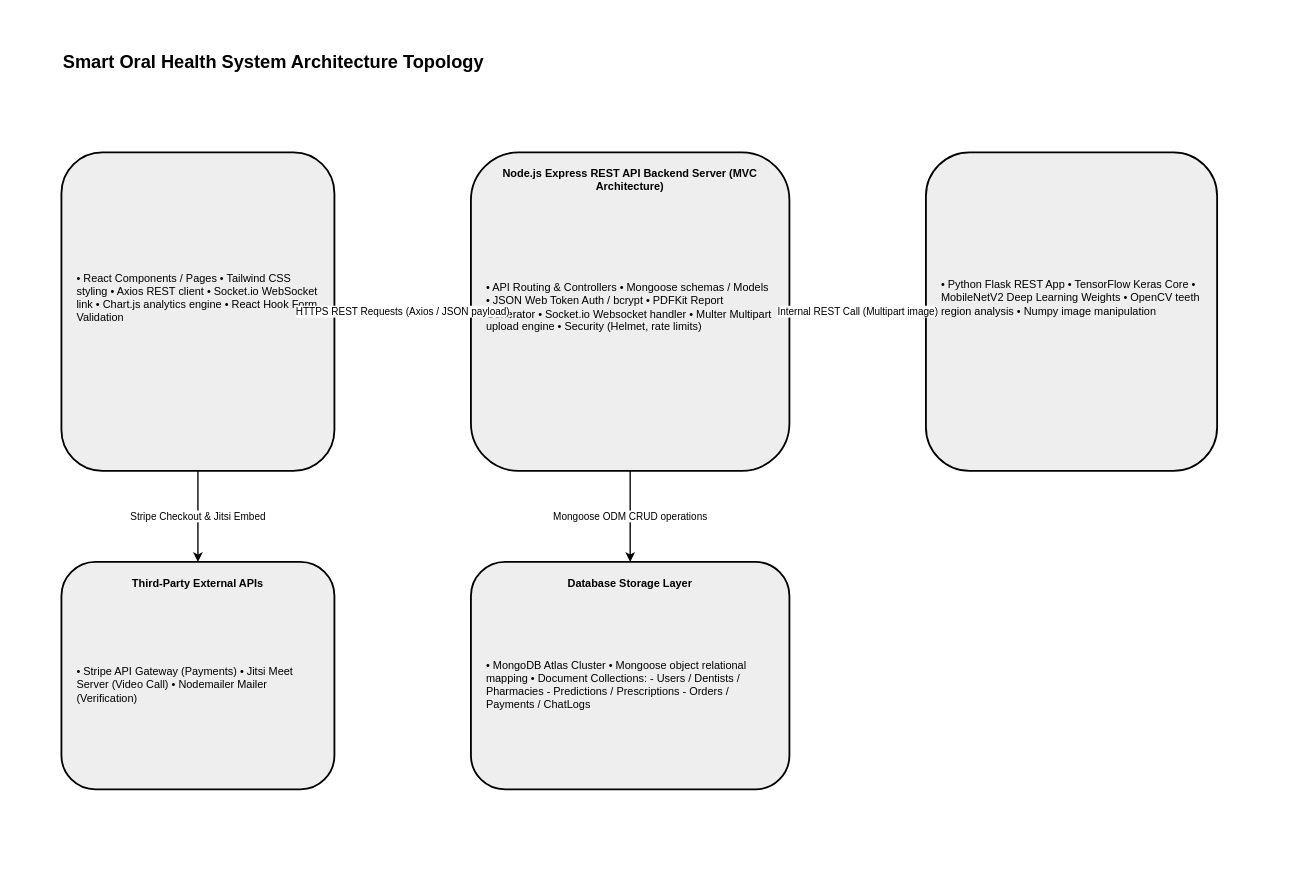
The diagram is 1305 pixels wide and 895 high, and some of its shapes have lost their labels. The box of each missing label's shape, as (x1, y1, x2, y2) in pixels:
Flask AI Microservice (Python service): (925, 151, 1218, 471)
React Frontend Client (Vite App Spa): (60, 151, 335, 471)
